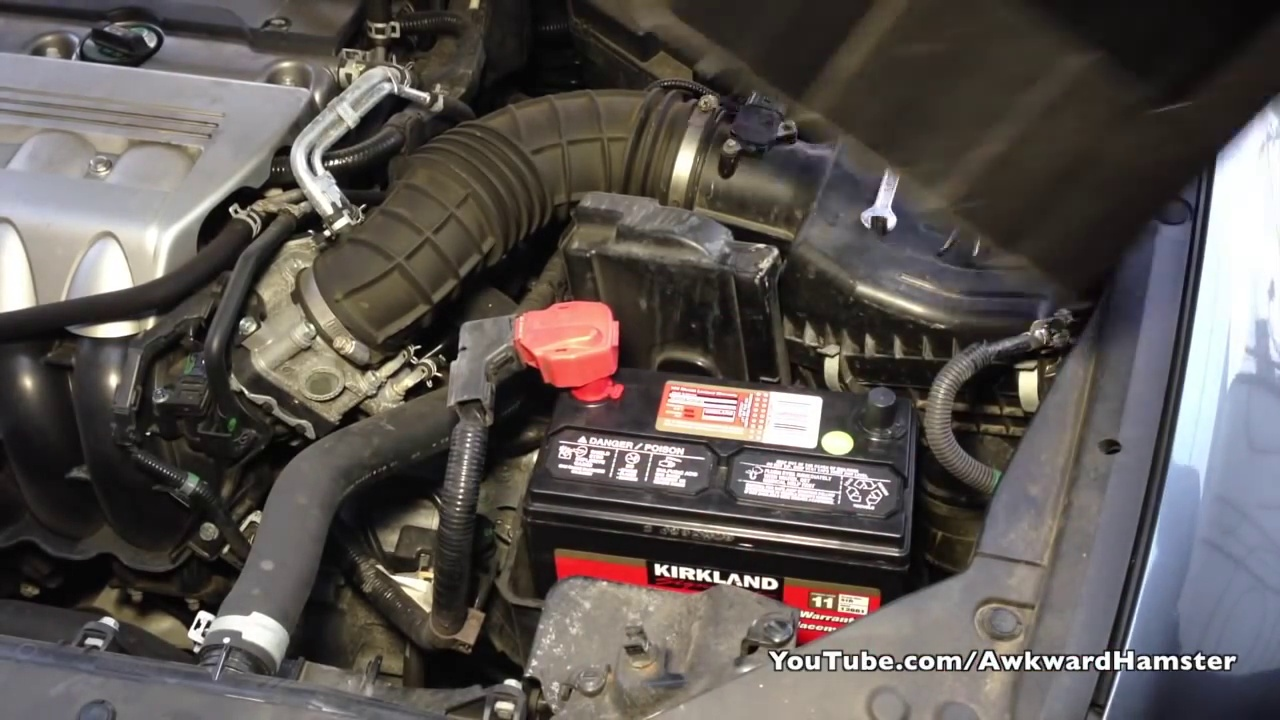battery: (530, 355, 919, 564)
pos_connected: (446, 296, 627, 431)
